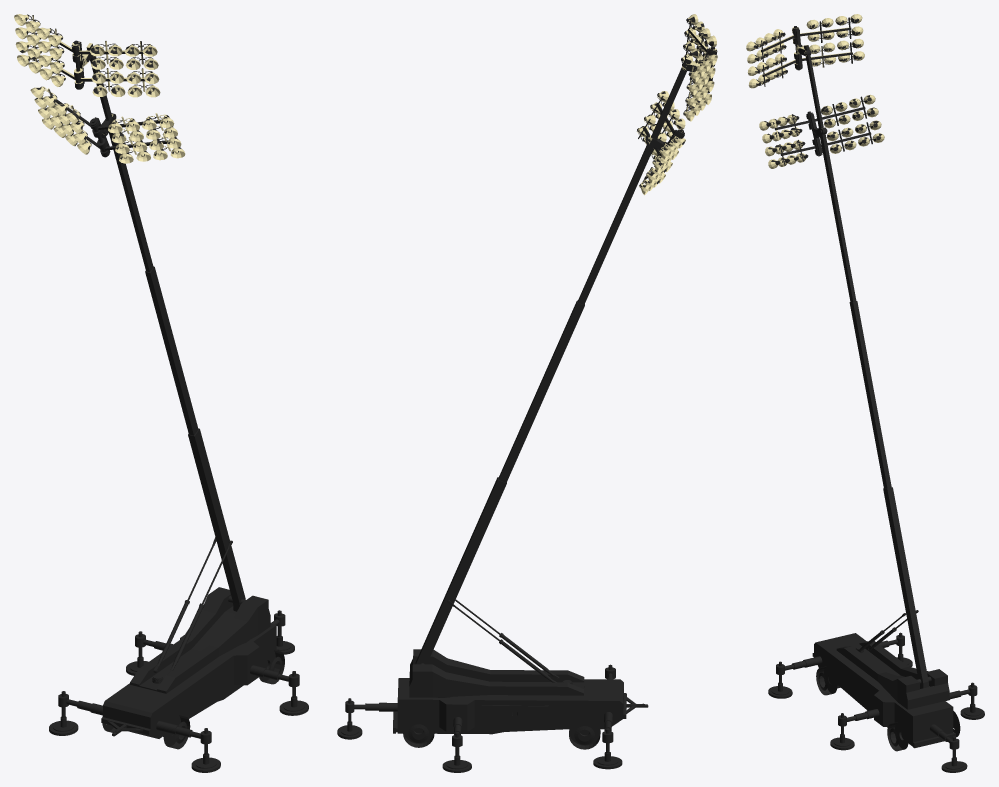
File: light_tower_3.obj
3 views of the same model, side by side, from view 1: azimuth 30°, elevation 25°; view 2: azimuth 150°, elevation 25°; view 3: azimuth 270°, elevation 25° (orthographic). The views are drawn at different scales.
Visible parts, largest first — view 1: light_tower.003; view 2: light_tower.003; view 3: light_tower.003.
Boxes of the visible parts, box(x1,y1,x2,y2) form: light_tower.003: box(14, 14, 308, 772); light_tower.003: box(337, 14, 717, 772); light_tower.003: box(746, 14, 984, 772).
Size of the model in its own units: 2.55 by 5.53 by 1.91.
1 material, 1 textured.
